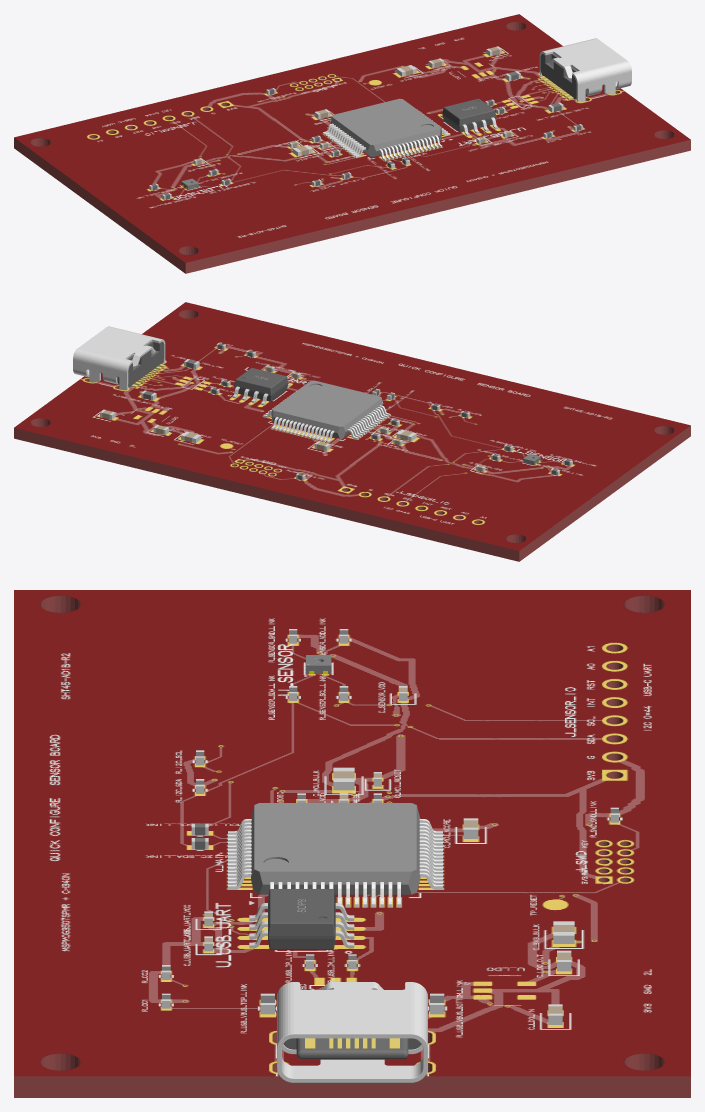
The picture shows the model from 3 angles, top to bottom: view 1: azimuth 30°, elevation 25°; view 2: azimuth 150°, elevation 25°; view 3: azimuth 270°, elevation 25°; orthographic projection. The views are drawn at different scales.
Parts seen in each view (by area): view 1: Box0, U_MAIN, J_USB, U_USB_UART; view 2: Box0, U_MAIN, J_USB, U_USB_UART; view 3: Box0, U_MAIN, J_USB, U_USB_UART.
Boxes of the visible parts, x1,y1,x2,y2 form: Box0: (14, 14, 690, 273); U_MAIN: (322, 98, 450, 161); J_USB: (539, 38, 631, 102); U_USB_UART: (440, 98, 498, 135); Box0: (14, 302, 690, 561); U_MAIN: (263, 380, 390, 442); J_USB: (73, 326, 165, 390); U_USB_UART: (232, 368, 290, 404); Box0: (14, 590, 690, 1097); U_MAIN: (228, 803, 442, 907); J_USB: (277, 982, 427, 1082); U_USB_UART: (249, 889, 354, 949).
Bounding box in the file's own units: 69.04 × 4.65 × 40.
Materials: 21 (2 with a texture image).
